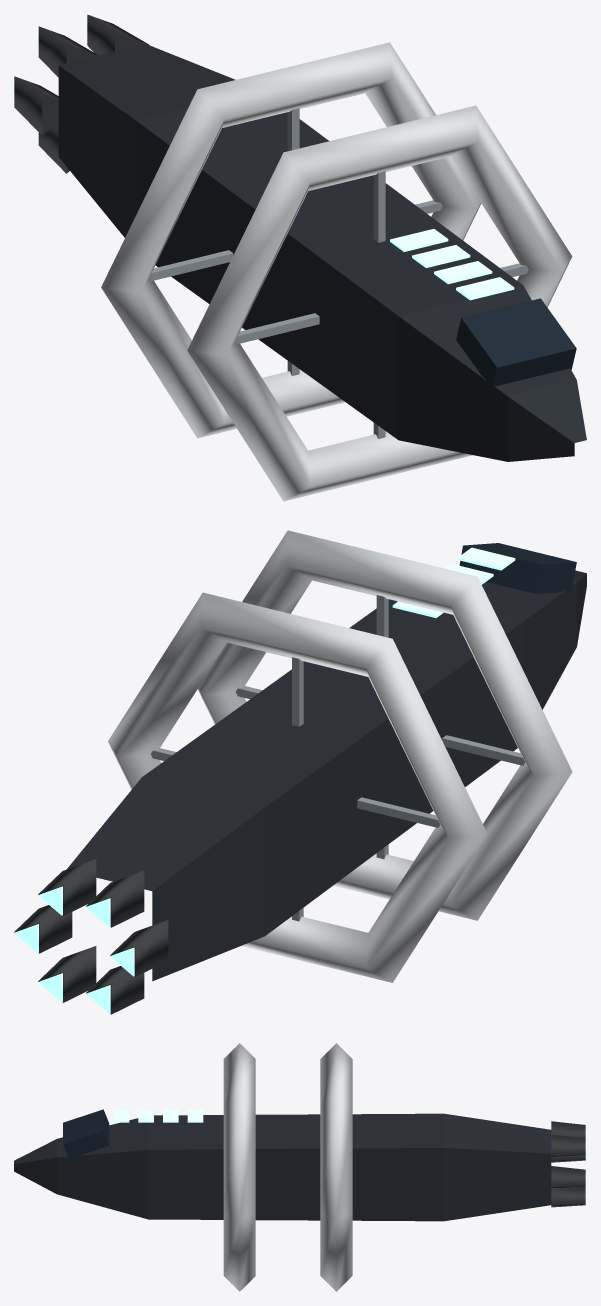
Rendered from space_ship_colony_transport_mk4_lod2.glb.
3 renders of one model, top to bottom at view 1: azimuth 30°, elevation 25°; view 2: azimuth 150°, elevation 25°; view 3: azimuth 270°, elevation 25°, orthographic. The views are drawn at different scales.
Parts seen in each view (by area): view 1: body, habitat_ring_1, habitat_ring_0, engine_3, engine_2, engine_1, engine_4; view 2: body, habitat_ring_0, habitat_ring_1, engine_2, engine_3, engine_1, engine_5, engine_4, engine_0; view 3: body, habitat_ring_1, habitat_ring_0, engine_0, engine_1, engine_5, engine_2.
Boxes of the visible parts, bbox=[...] form: body: bbox=[58, 44, 586, 461]; habitat_ring_1: bbox=[187, 105, 572, 501]; habitat_ring_0: bbox=[101, 42, 481, 438]; engine_3: bbox=[14, 76, 58, 135]; engine_2: bbox=[38, 26, 98, 77]; engine_1: bbox=[87, 14, 148, 55]; engine_4: bbox=[38, 122, 69, 173]; body: bbox=[66, 543, 586, 981]; habitat_ring_0: bbox=[108, 592, 487, 982]; habitat_ring_1: bbox=[197, 530, 572, 920]; engine_2: bbox=[86, 871, 144, 927]; engine_3: bbox=[110, 920, 168, 976]; engine_1: bbox=[38, 859, 96, 915]; engine_5: bbox=[38, 946, 96, 1002]; engine_4: bbox=[86, 966, 144, 1014]; engine_0: bbox=[14, 905, 72, 953]; body: bbox=[14, 1109, 551, 1221]; habitat_ring_1: bbox=[223, 1043, 255, 1291]; habitat_ring_0: bbox=[320, 1043, 352, 1291]; engine_0: bbox=[551, 1166, 586, 1189]; engine_1: bbox=[551, 1134, 586, 1157]; engine_5: bbox=[551, 1187, 586, 1207]; engine_2: bbox=[551, 1121, 586, 1138].
Size of the model in its own units: 25.29 by 21.9 by 58.
